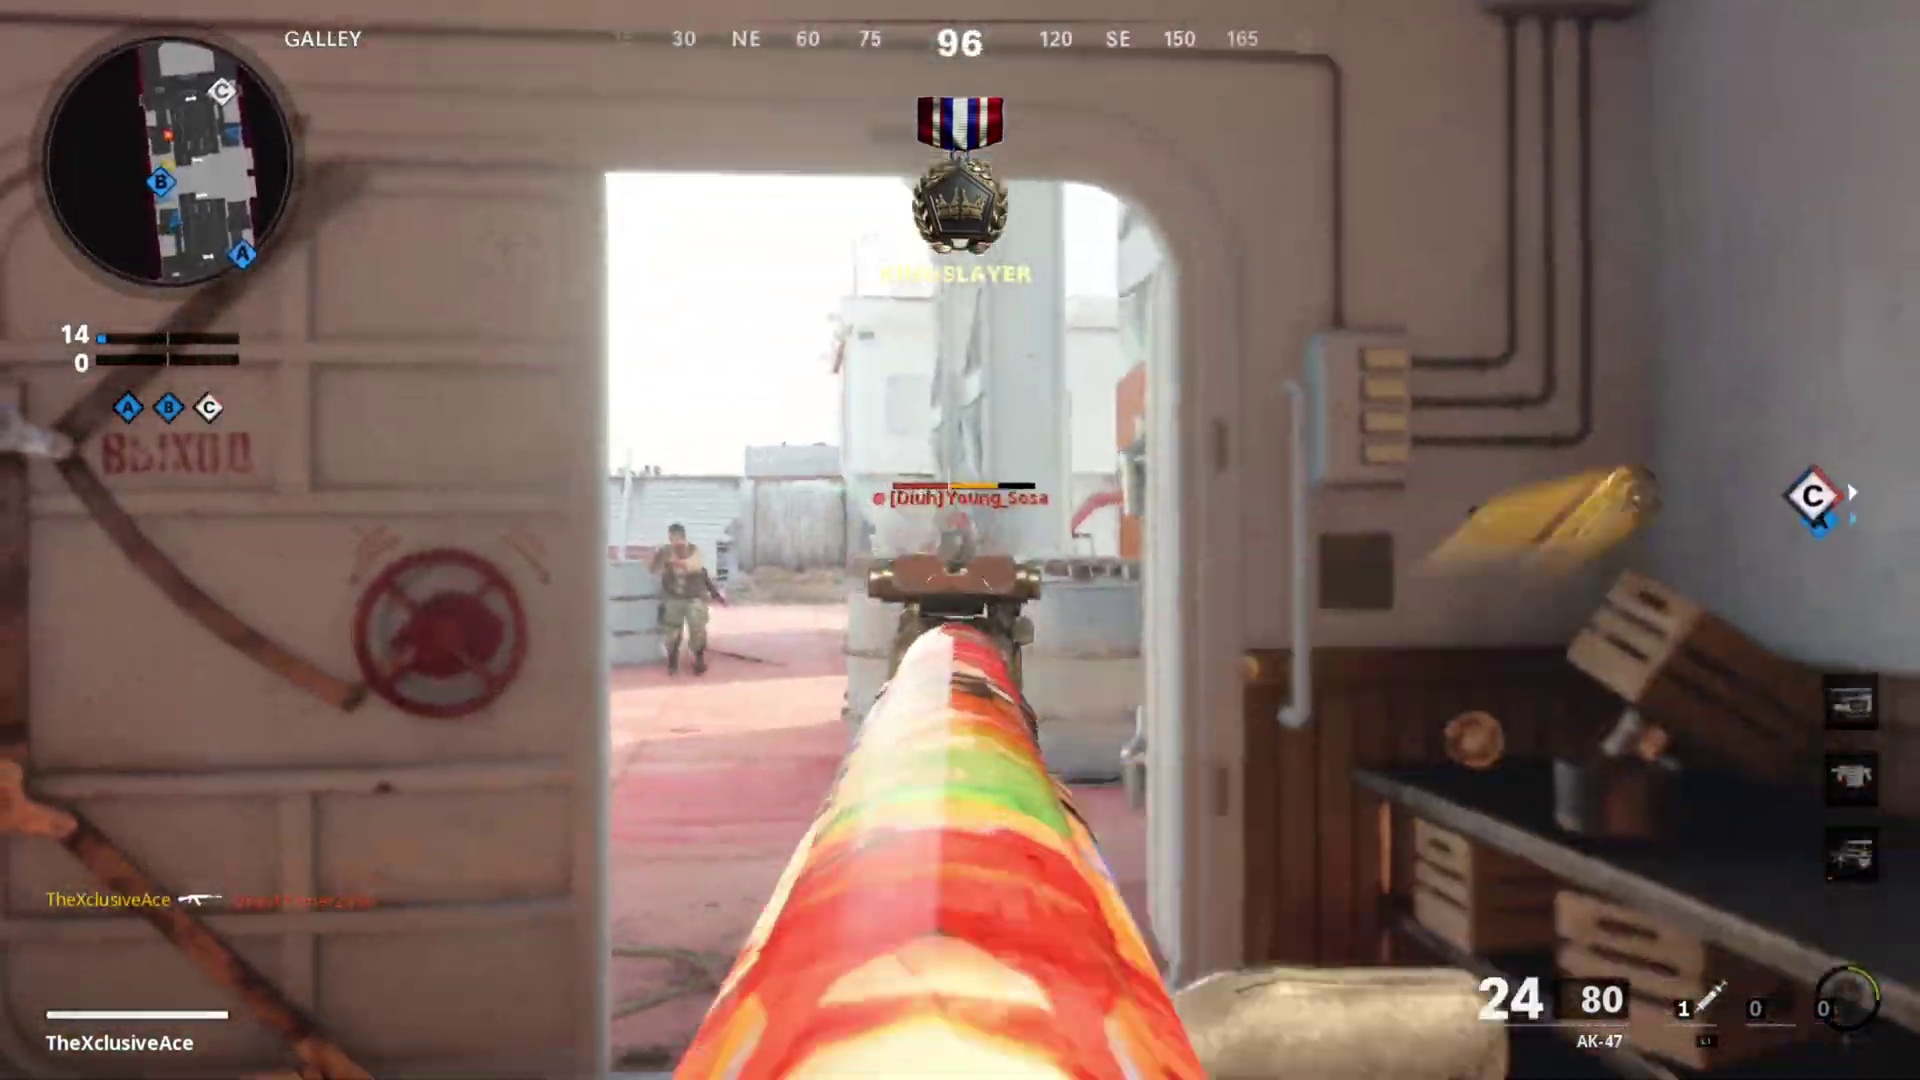head: (663, 518, 688, 551)
person: (637, 520, 725, 665)
